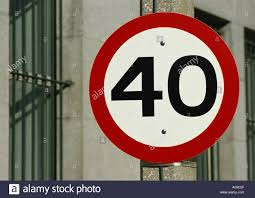Speed_limit_40km: (88, 13, 240, 164)
